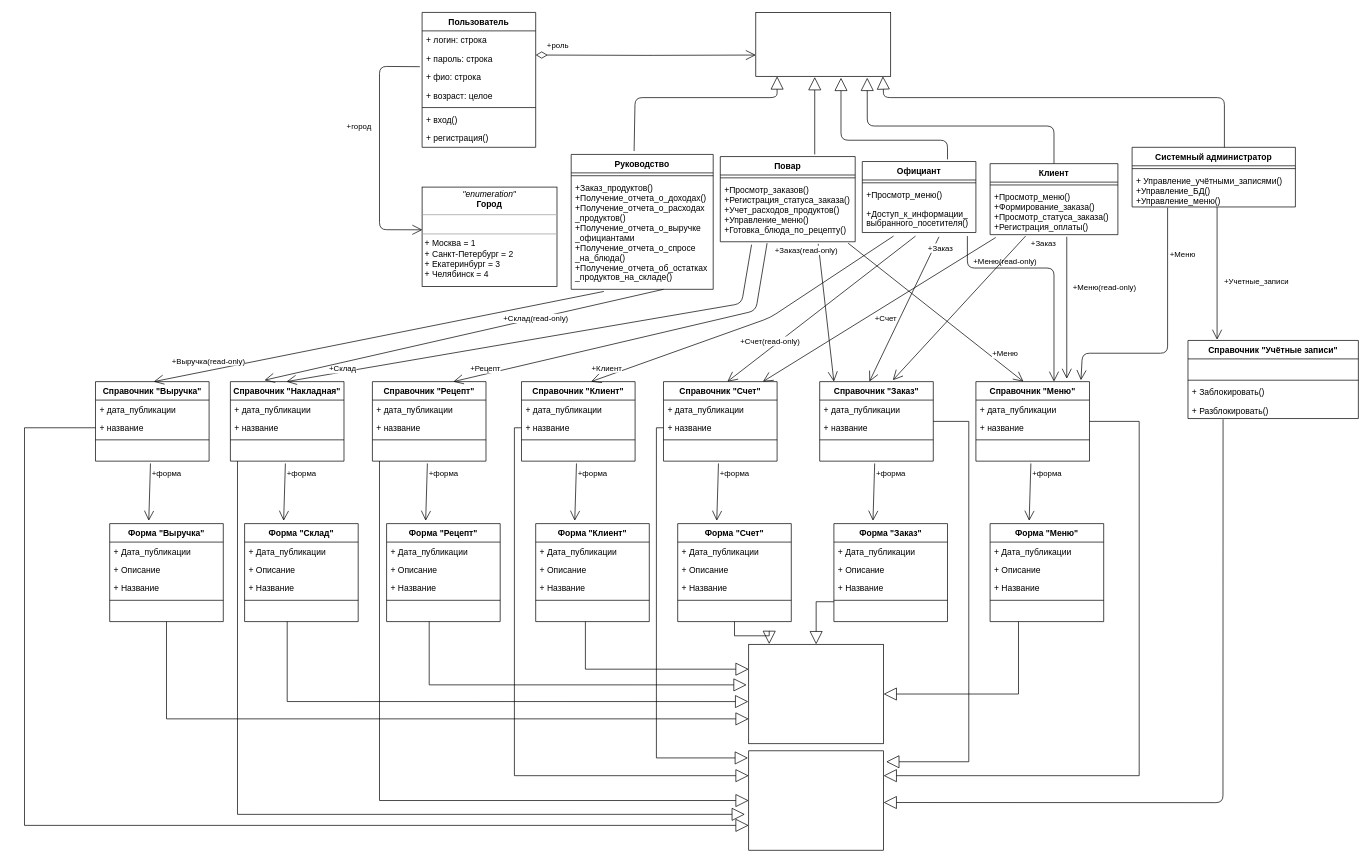
Some shapes in this 1371 by 863 pixel diagram are drawn without their labels. The centre of each missing label's shape, as x and y in pixels:
"abstract" Роль + выход(): point (823, 44)
"abstract" Справочник + Создать() + Просмотреть() + Изменить() + Удалить(): point (816, 800)
"abstract" Форма + Сохранить() + Отмена(): point (816, 694)
